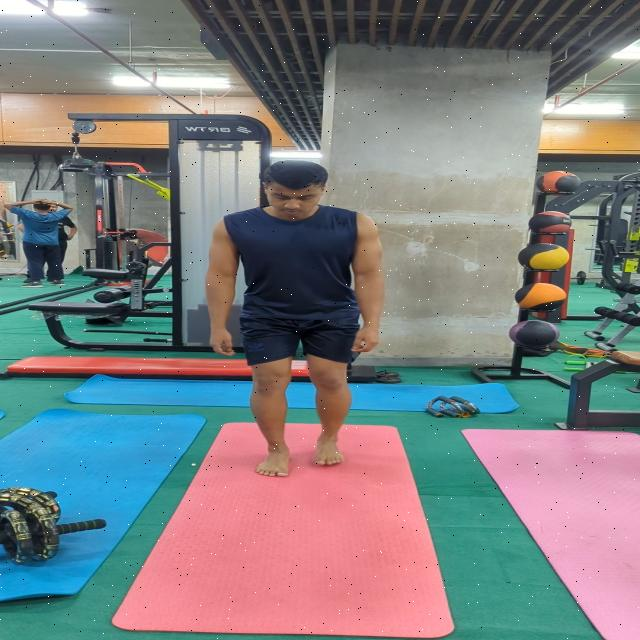Normal_Lunges: (190, 158, 394, 481)
